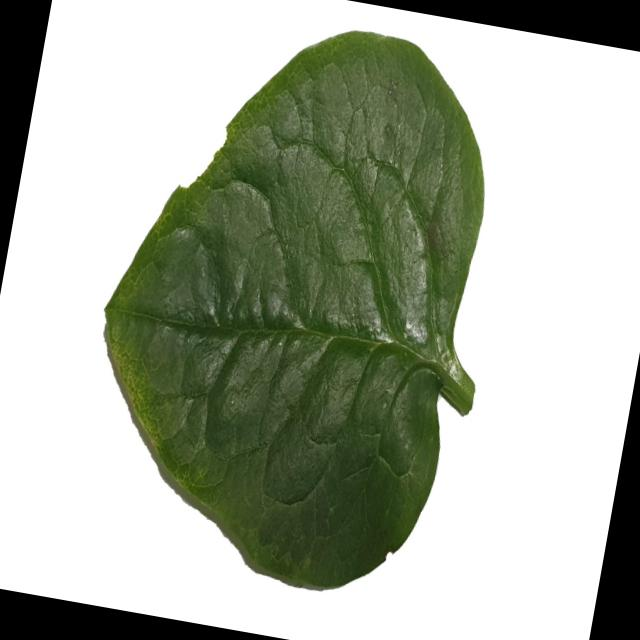Medicinal-Basale: (61, 0, 533, 611)
